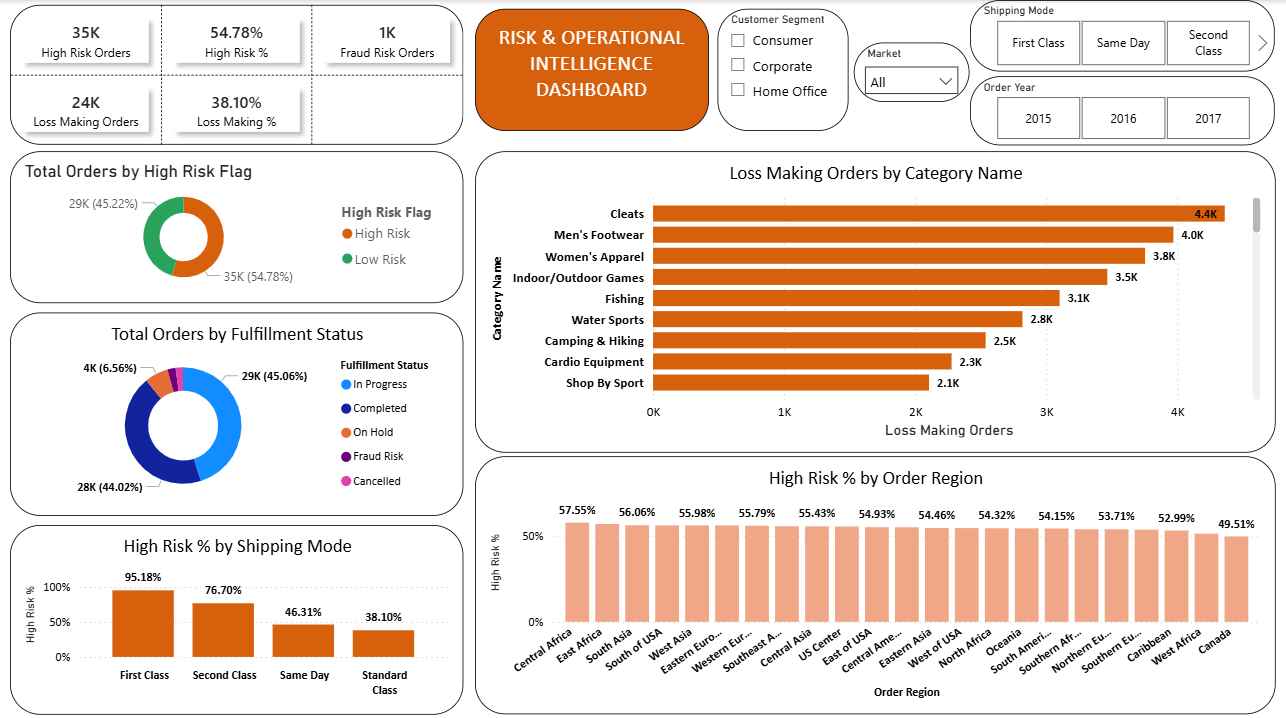

What the dashboard file says about the page in this screenshot:
{"tool":"powerbi","page":{"name":"Page 3","canvas":[1280,720],"ordinal":2},"visuals":[{"type":"cardVisual","fields":{"Data":["DAX Column.High Risk Orders","DAX Column.High Risk %","DAX Column.Fraud Risk Orders","DAX Column.Loss Making Orders","DAX Column.Loss Making %"]},"box":[10,0,451.6,150.5],"z":0},{"type":"donutChart","fields":{"Y":["DAX Column.Total Orders"],"Category":["Dataset.High Risk Flag"]},"box":[10.5,150,451.2,151.2],"z":1000},{"type":"clusteredColumnChart","fields":{"Category":["Dataset.Shipping Mode"],"Y":["DAX Column.High Risk %"]},"box":[10,522.5,451.6,189.1],"z":2000},{"type":"clusteredColumnChart","fields":{"Y":["DAX Column.High Risk %"],"Category":["Dataset.Order Region"]},"box":[472.1,453.5,796.5,257],"z":3000},{"type":"donutChart","fields":{"Y":["DAX Column.Total Orders"],"Category":["Dataset.Fulfillment Status"]},"box":[10.5,310.5,451.2,202.3],"z":4000},{"type":"clusteredBarChart","fields":{"Category":["Dataset.Category Name"],"Y":["DAX Column.Loss Making Orders"]},"box":[472.1,150,796.5,300],"z":5000},{"type":"slicer","fields":{"Values":["Dataset.Order Year"]},"box":[965.1,75.6,303.5,68.6],"z":6000},{"type":"slicer","fields":{"Values":["Dataset.Shipping Mode"]},"box":[965.1,0,303.5,70.9],"z":7000},{"type":"slicer","fields":{"Values":["Dataset.Customer Segment"]},"box":[714,8.7,130.6,121.9],"z":8000},{"type":"slicer","fields":{"Values":["Dataset.Market"]},"box":[850,41.9,115.1,59.3],"z":9000},{"type":"textbox","box":[472.7,8.7,232.6,121.9],"z":10000}]}

Visuals, with their boxes in screenshot pixels (x1, y1, x2, y2), scaled from the page's 1280x720 canvas onto the 1286x718 screenshot:
cardVisual - DAX Column.High Risk Orders x DAX Column.High Risk %: <box>10,0,464,150</box>
donutChart - DAX Column.Total Orders x Dataset.High Risk Flag: <box>11,150,464,300</box>
clusteredColumnChart - Dataset.Shipping Mode x DAX Column.High Risk %: <box>10,521,464,710</box>
clusteredColumnChart - DAX Column.High Risk % x Dataset.Order Region: <box>474,452,1275,709</box>
donutChart - DAX Column.Total Orders x Dataset.Fulfillment Status: <box>11,310,464,511</box>
clusteredBarChart - Dataset.Category Name x DAX Column.Loss Making Orders: <box>474,150,1275,449</box>
slicer - Dataset.Order Year: <box>970,75,1275,144</box>
slicer - Dataset.Shipping Mode: <box>970,0,1275,71</box>
slicer - Dataset.Customer Segment: <box>717,9,849,130</box>
slicer - Dataset.Market: <box>854,42,970,101</box>
textbox: <box>475,9,709,130</box>
